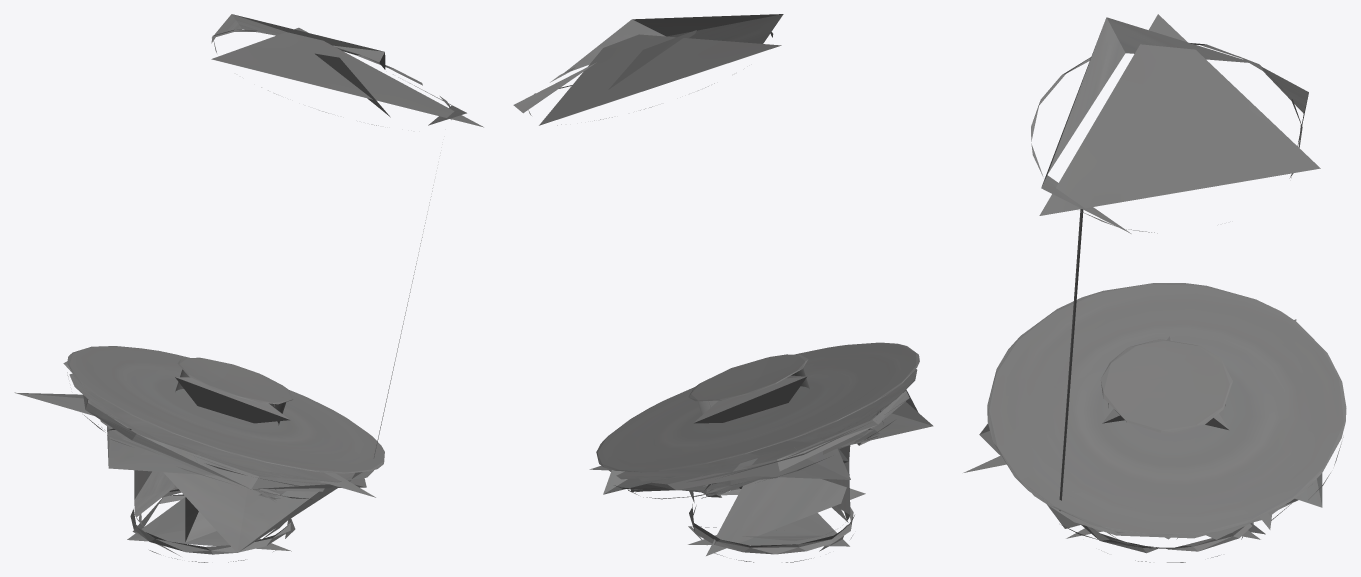
Rendered from airSystem_air_filter_c01.glb.
3 renders of one model, left to right at view 1: azimuth 30°, elevation 25°; view 2: azimuth 150°, elevation 25°; view 3: azimuth 270°, elevation 25°, orthographic. The views are drawn at different scales.
Visible parts, largest first — view 1: geometry_0; view 2: geometry_0; view 3: geometry_0.
Part boxes in pixels (bbox=[...]): geometry_0: bbox=[14, 14, 483, 562]; geometry_0: bbox=[513, 14, 933, 562]; geometry_0: bbox=[963, 14, 1346, 562].
Bounding box in the file's own units: 0.3368 × 0.42 × 0.2825.
Materials: 1 (1 with a texture image).
